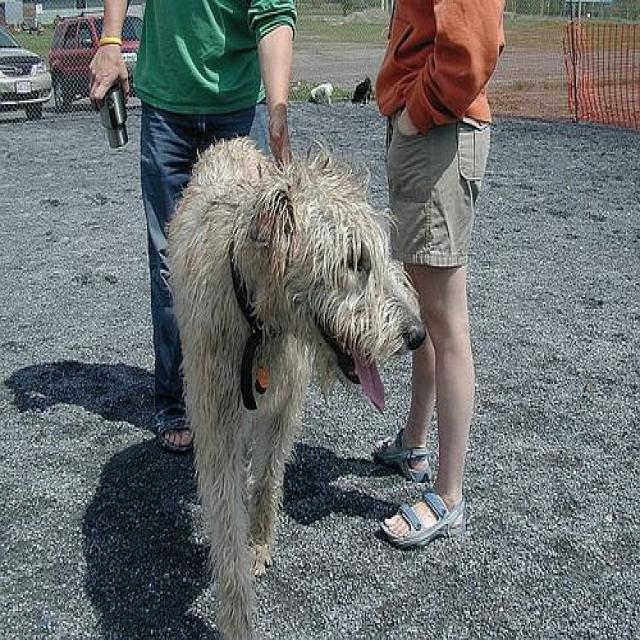irish_wolfhound: (168, 134, 428, 638), (351, 76, 374, 106)
